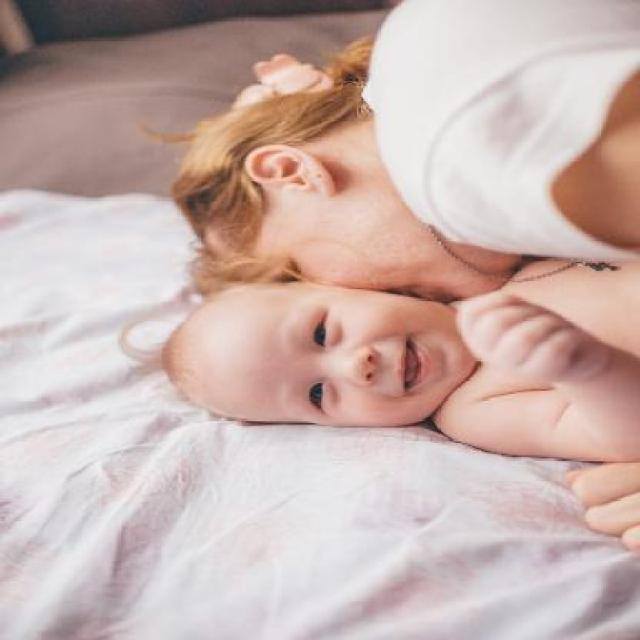baby: (162, 272, 638, 458)
